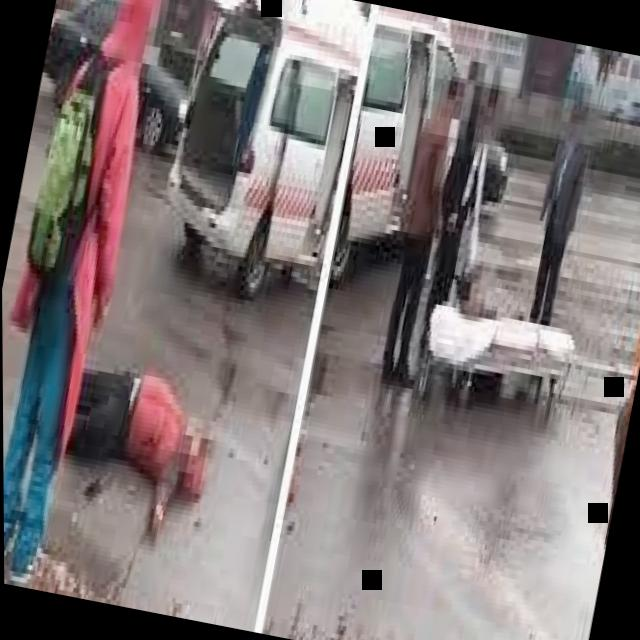Fall-Detected: (27, 314, 233, 546)
